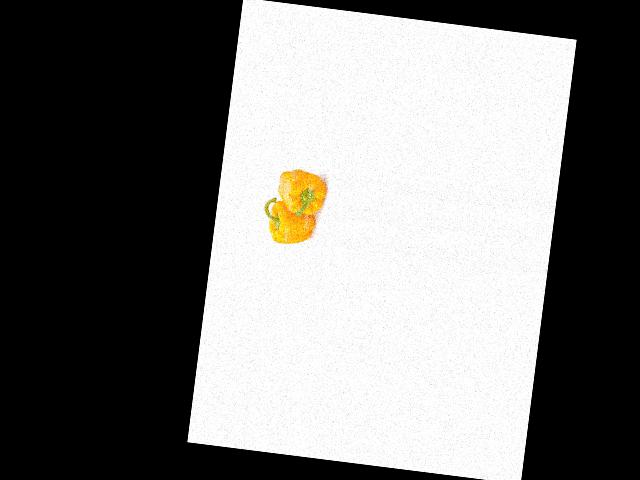bell_pepper: (262, 194, 318, 248)
